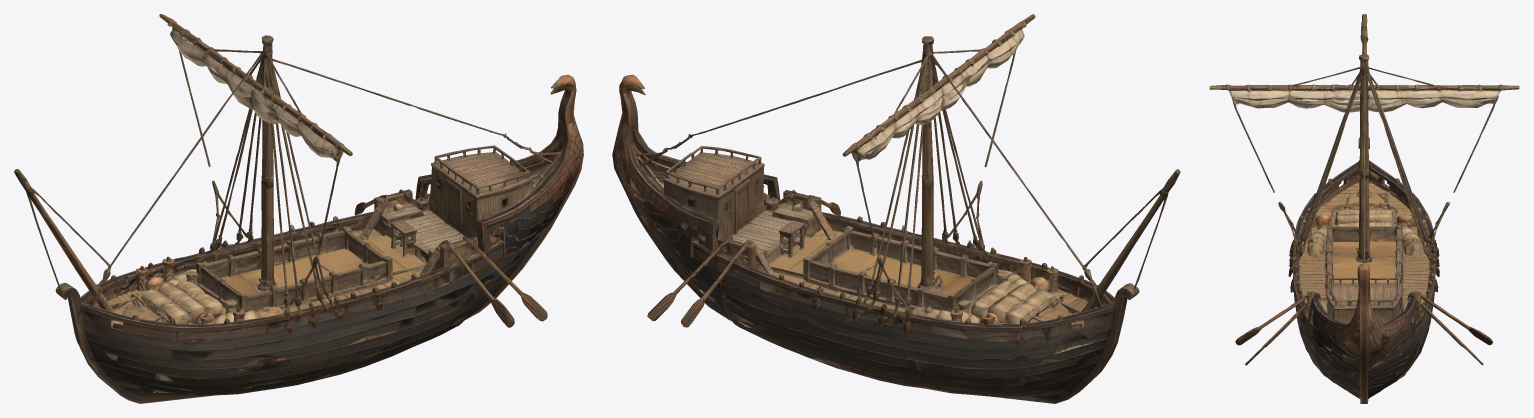
File: ship-test.glb
3 renders of one model, left to right at view 1: azimuth 30°, elevation 25°; view 2: azimuth 150°, elevation 25°; view 3: azimuth 270°, elevation 25°, orthographic. The views are drawn at different scales.
Bounding box in the file's own units: 1.9 × 1.12 × 1.1.
1 material, 1 textured.
